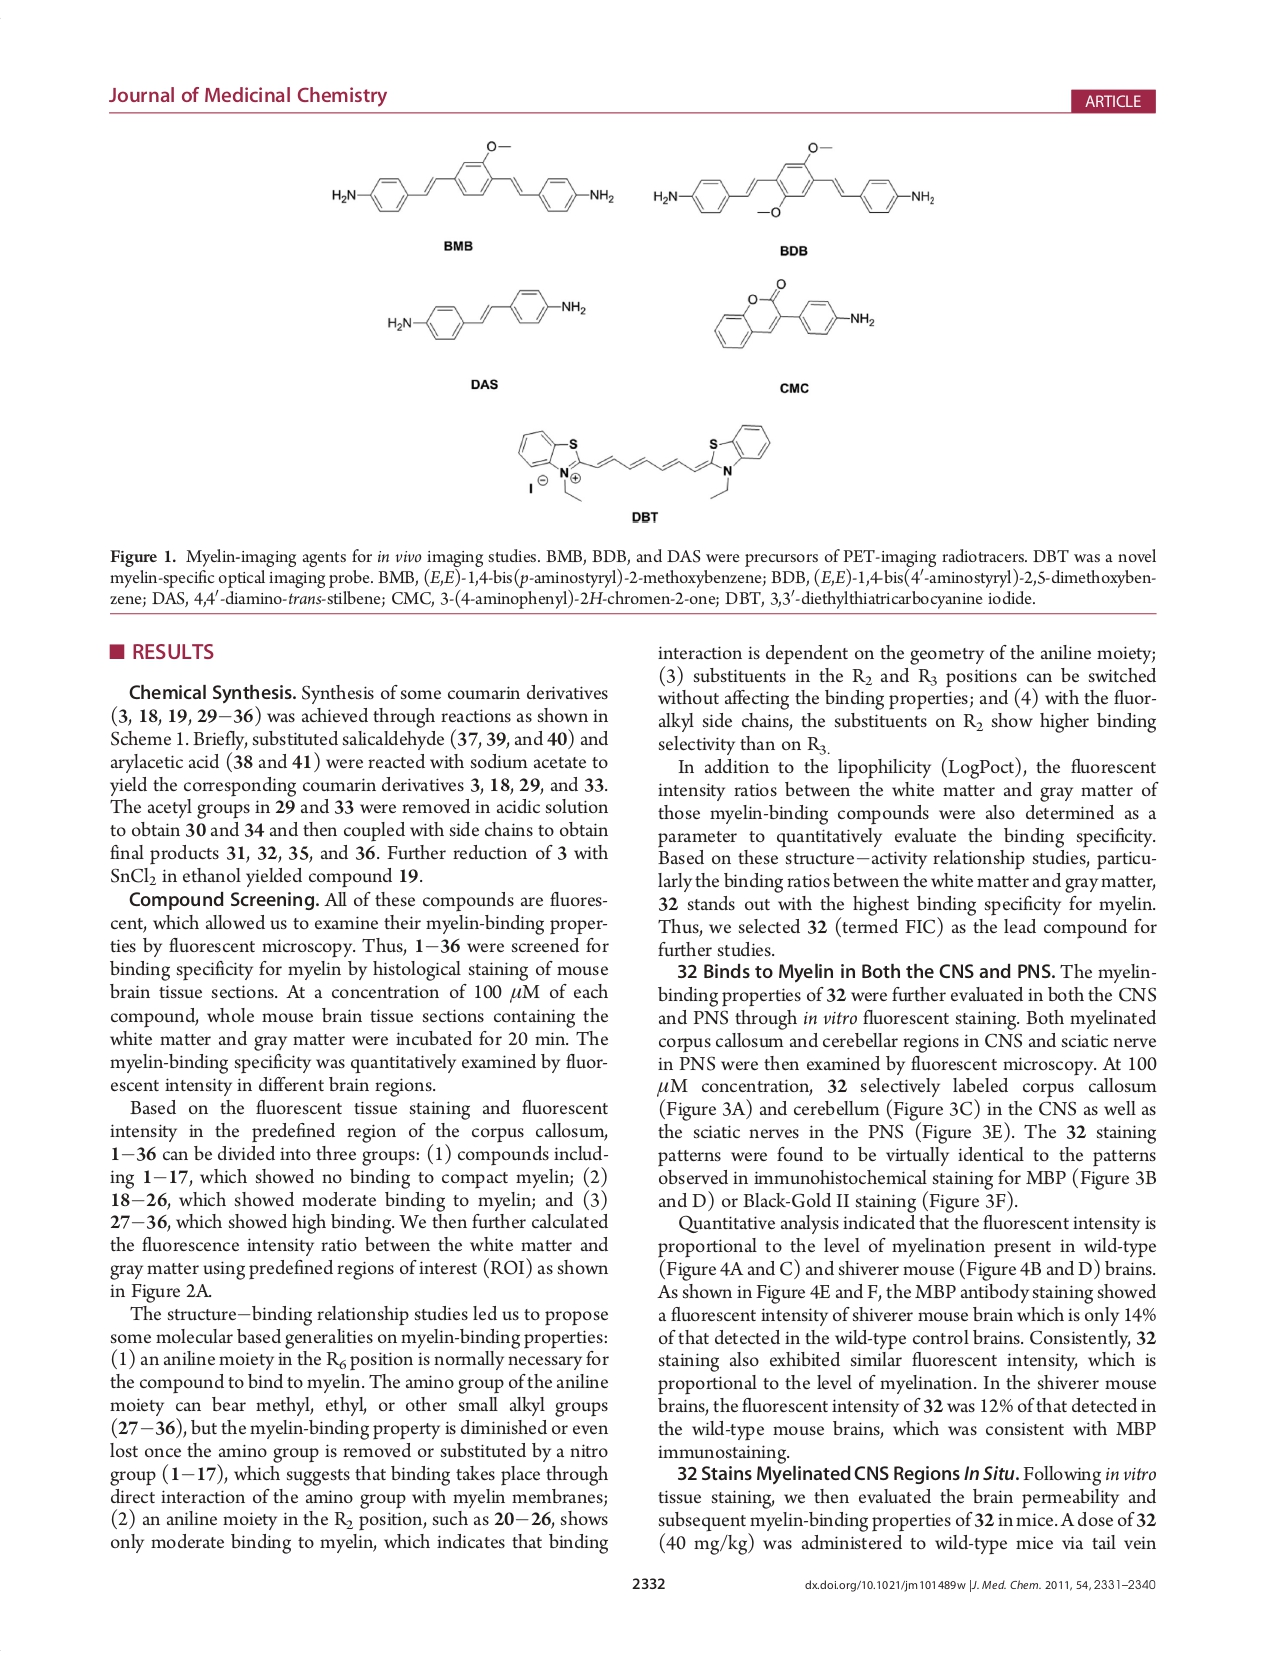exist_molecular: (330, 136, 618, 223), (648, 141, 938, 225), (512, 415, 775, 505), (710, 273, 879, 352), (382, 283, 588, 344)
